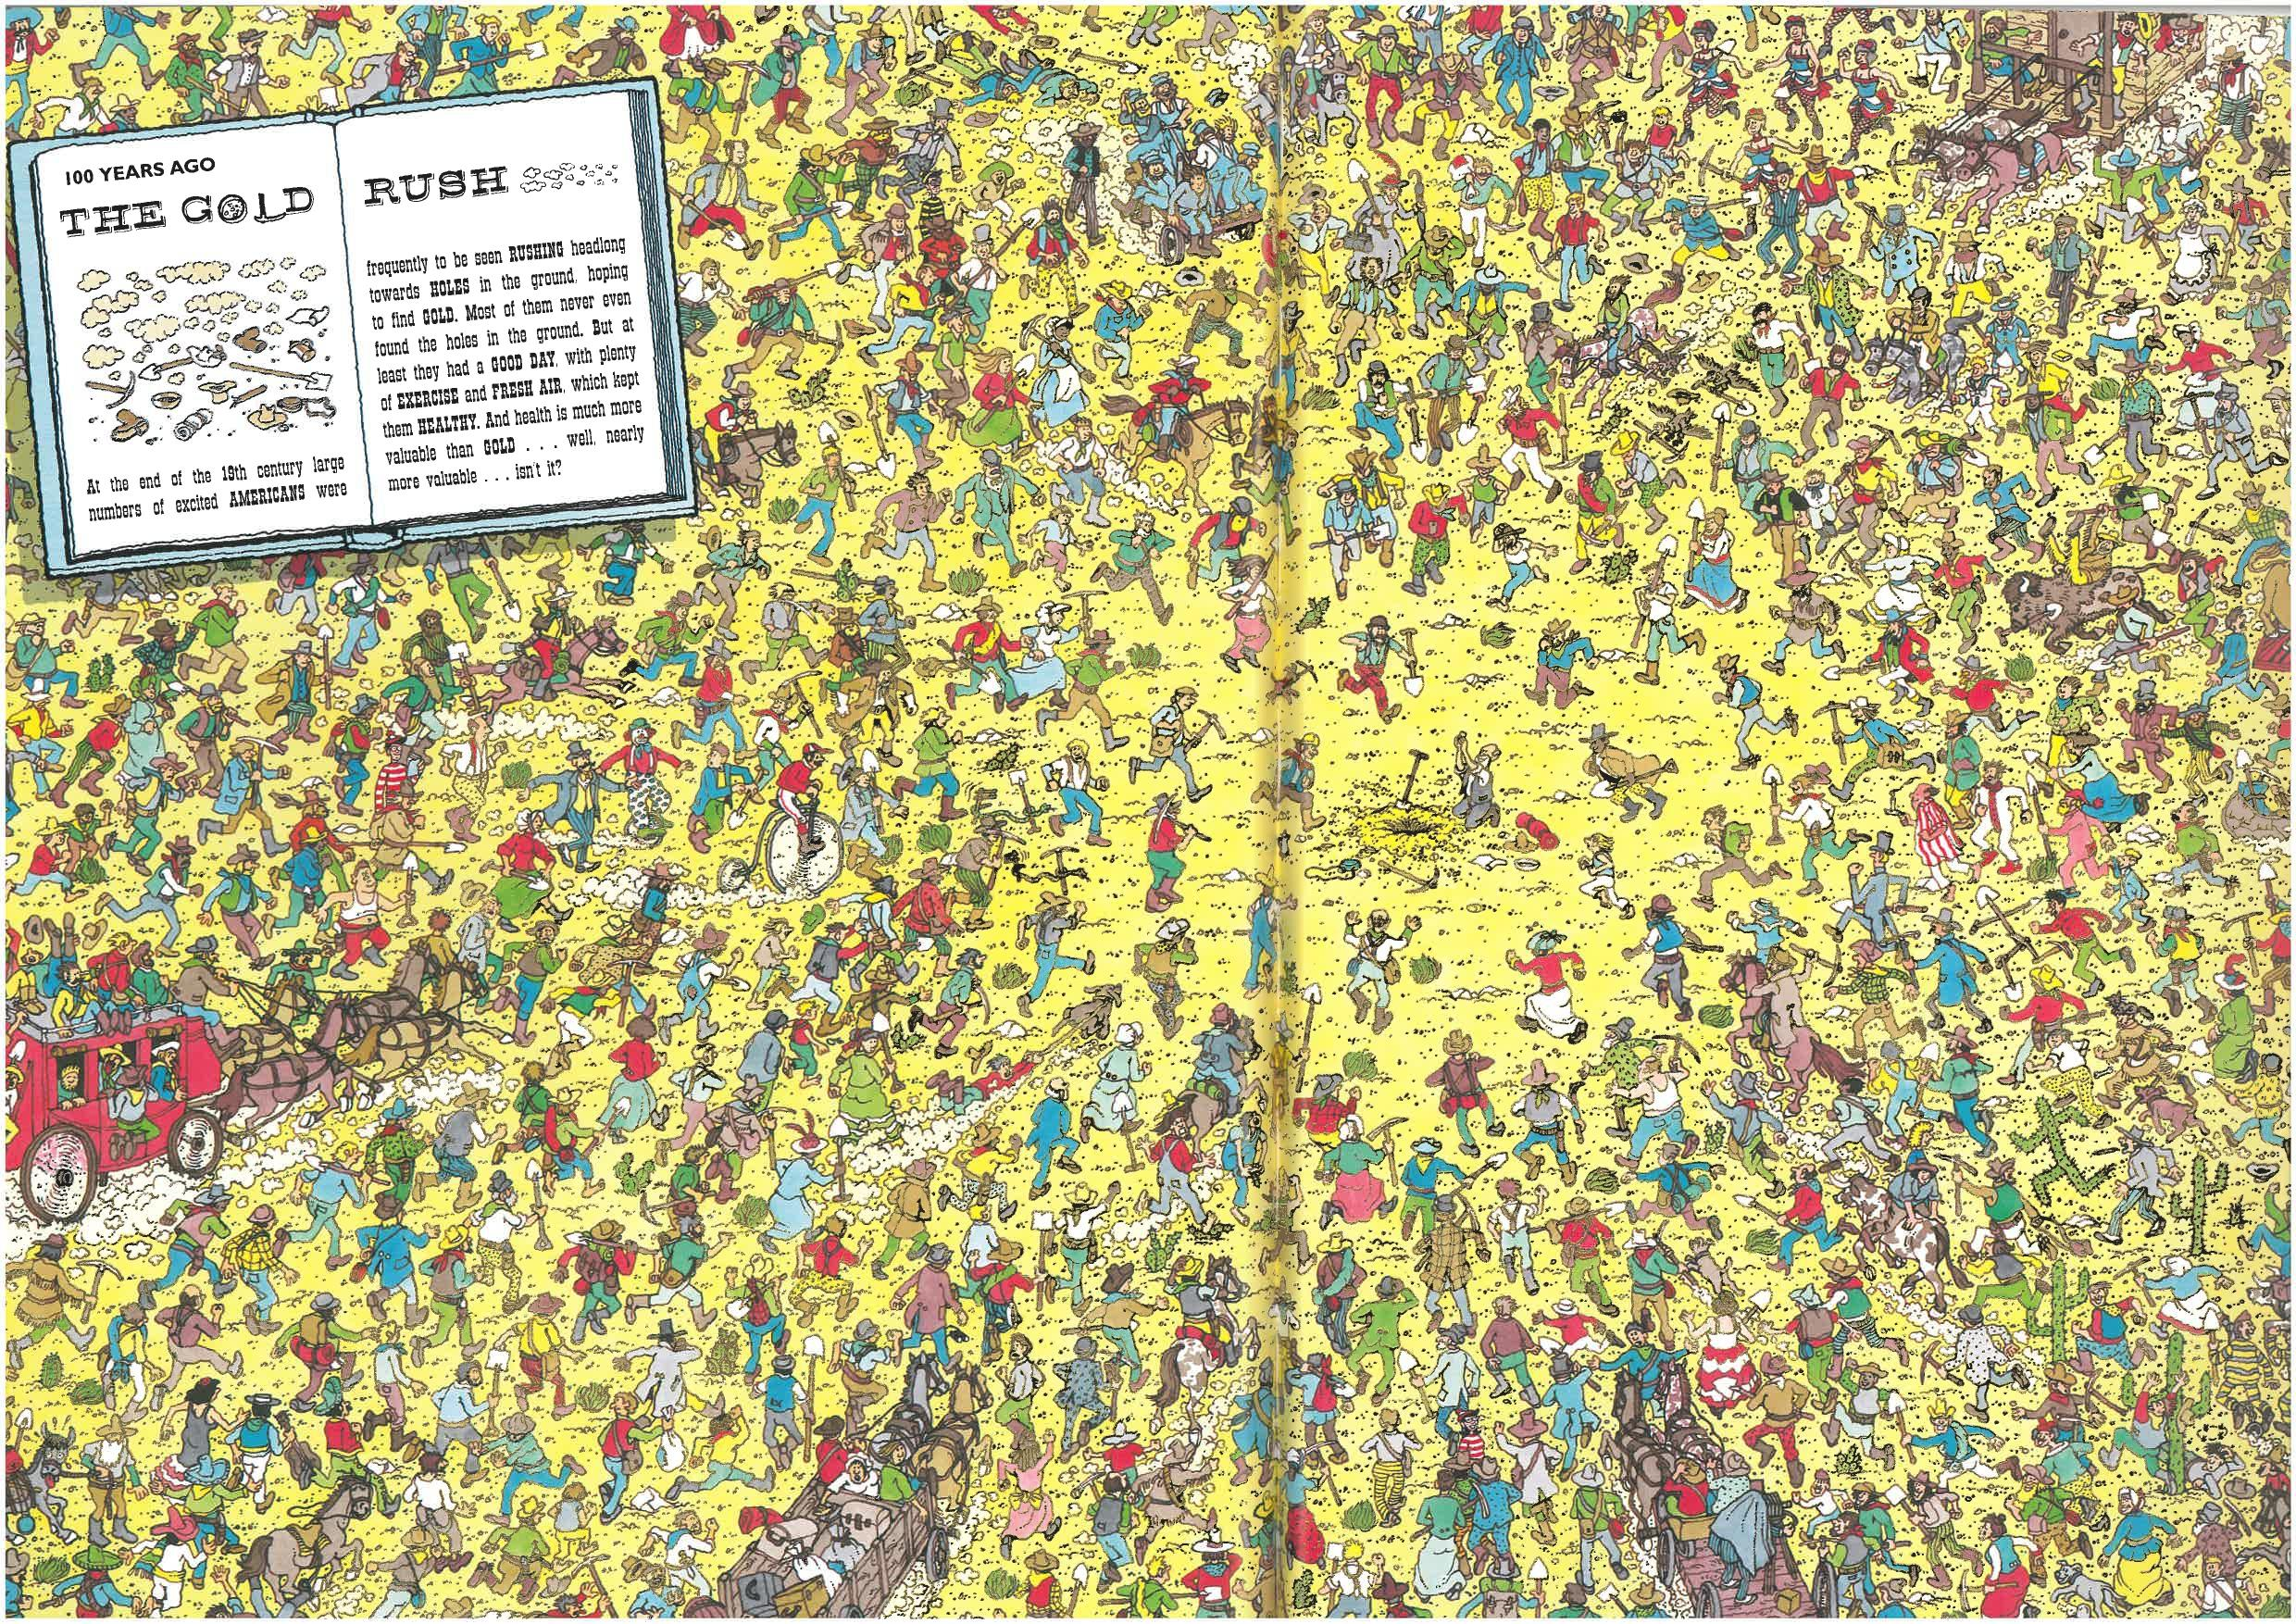waldos: (372, 729, 427, 817)
